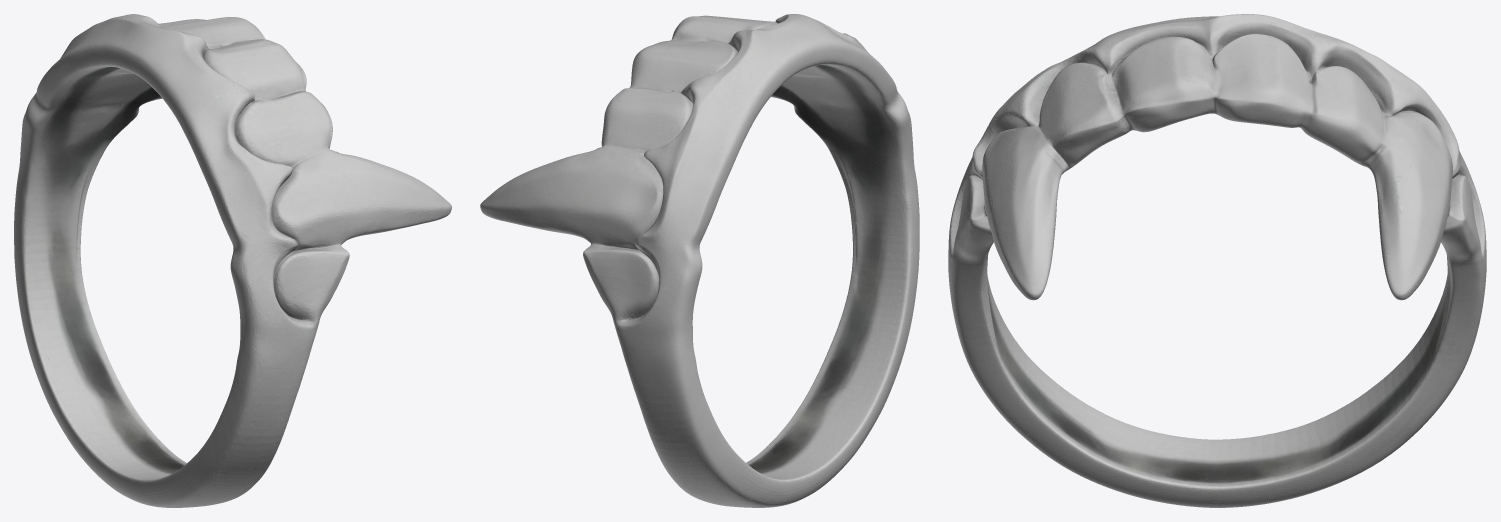
The model's file is vampire+fang+ring+3d+model.opt.glb.
3 views of the same model, side by side, from view 1: azimuth 30°, elevation 25°; view 2: azimuth 150°, elevation 25°; view 3: azimuth 270°, elevation 25° (orthographic). The views are drawn at different scales.
Parts seen in each view (by area): view 1: tripo_node_fdf254d3-32b6-4971-b30d-4ddfef85feac; view 2: tripo_node_fdf254d3-32b6-4971-b30d-4ddfef85feac; view 3: tripo_node_fdf254d3-32b6-4971-b30d-4ddfef85feac.
Boxes of the visible parts, x1,y1,x2,y2 form: tripo_node_fdf254d3-32b6-4971-b30d-4ddfef85feac: (14,14,451,507); tripo_node_fdf254d3-32b6-4971-b30d-4ddfef85feac: (480,14,919,507); tripo_node_fdf254d3-32b6-4971-b30d-4ddfef85feac: (948,14,1486,507).
Size of the model in its own units: 0.5963 by 0.9798 by 0.9589.
1 material, 1 textured.
